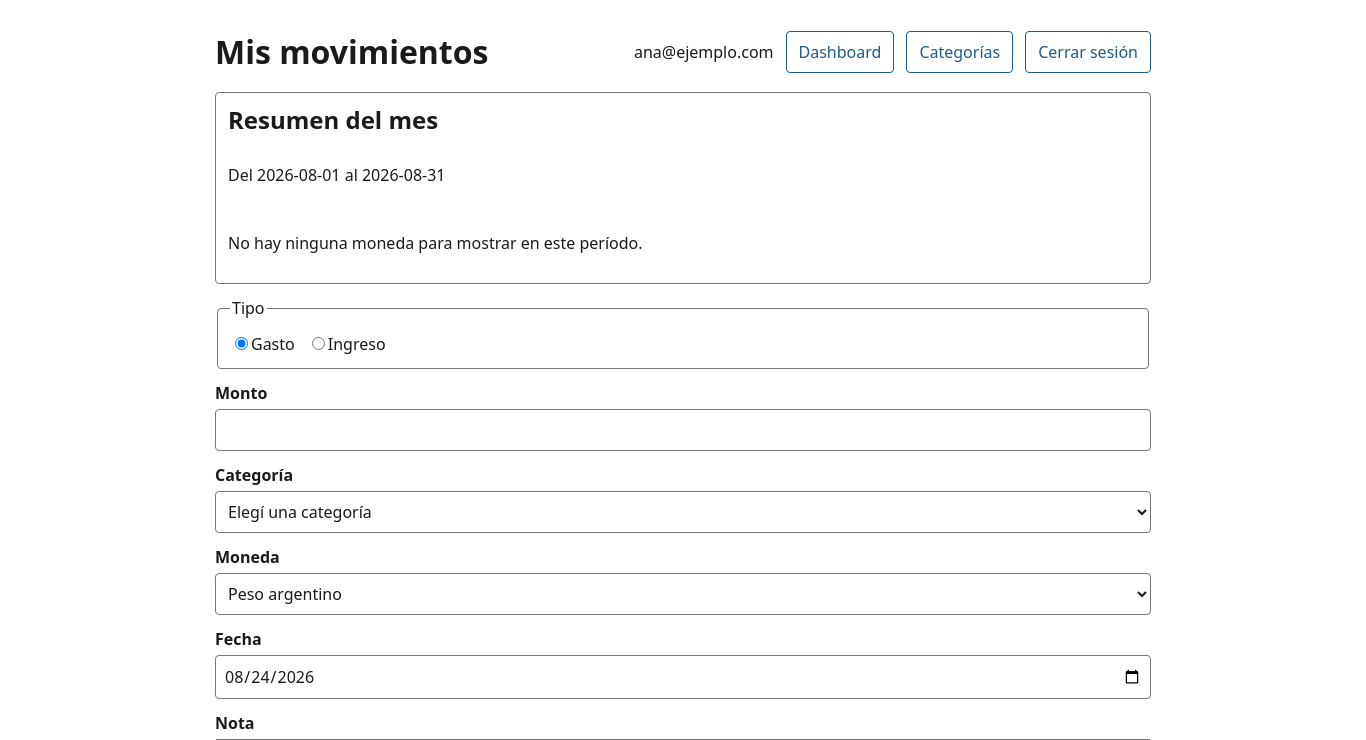
App — cualquier 401 vuelve a la pantalla de acceso › un 401 al registrar un movimiento avisa que ese movimiento no se guardó AC-12
Type "800" into the number field labelled "Monto" at (683, 430), box [215,409,1151,451]
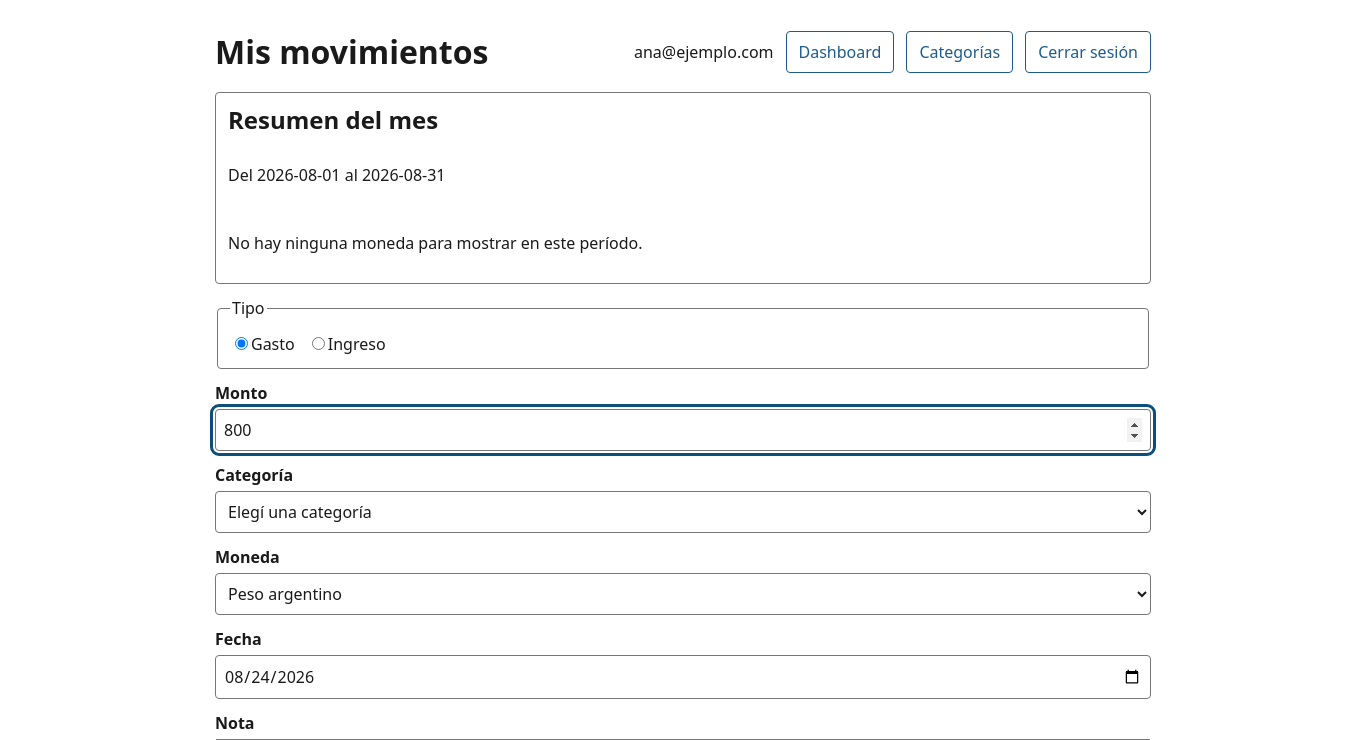
Select "Comida" in the dropdown labelled "Categoría" at (683, 512), box [215,491,1151,533]
(page scrolled)
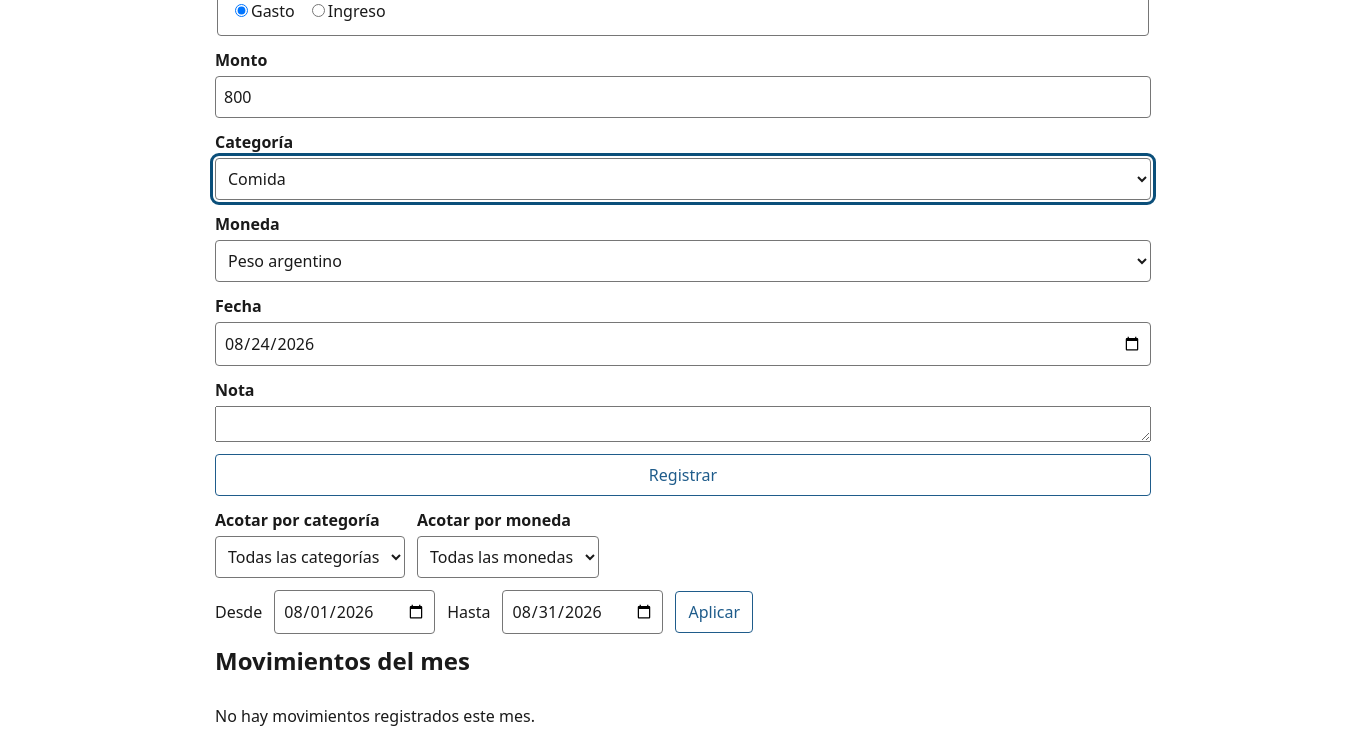
Click the button "Registrar" at (683, 475), box [215,454,1151,496]
(page scrolled)
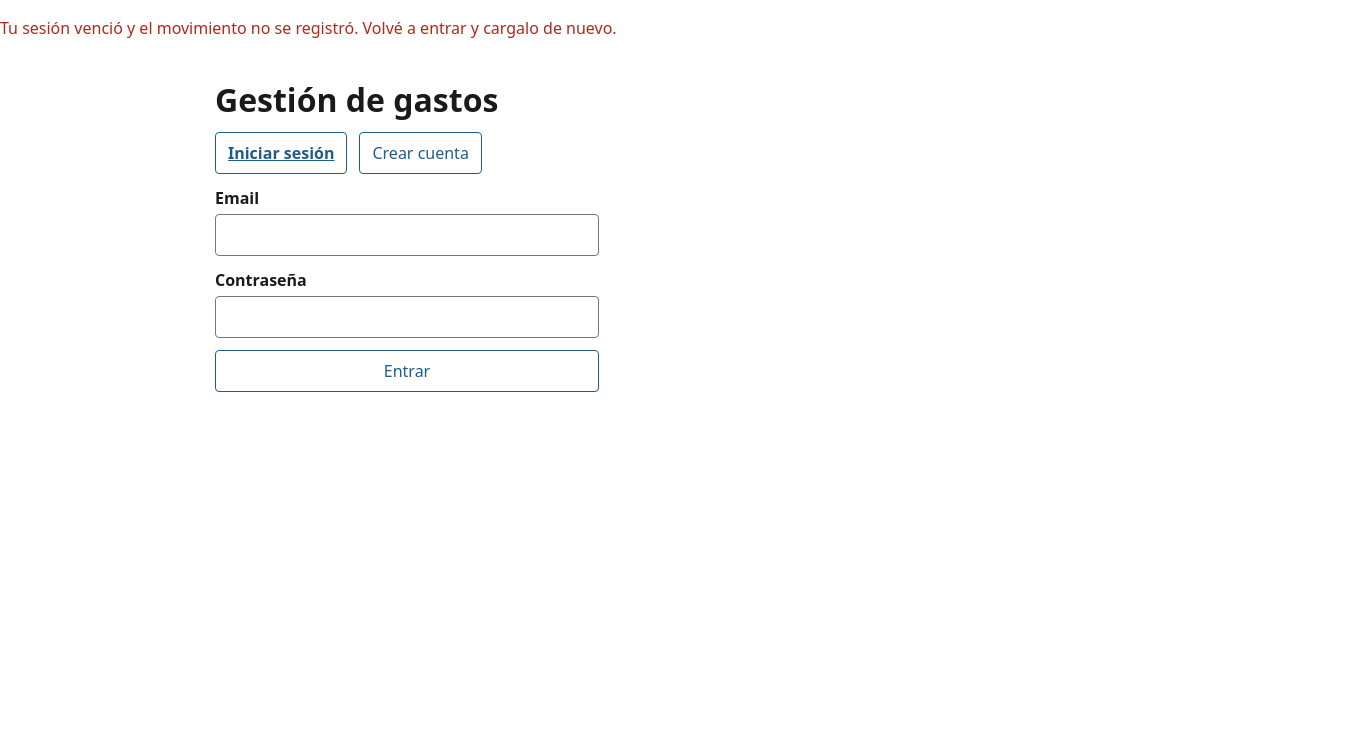
Expected: the message shows "Tu sesión venció", [0,17,617,39]
Expected: the message shows "no se registró", [0,17,617,39]
Expected: the button "Entrar" is shown, [215,350,599,392]
